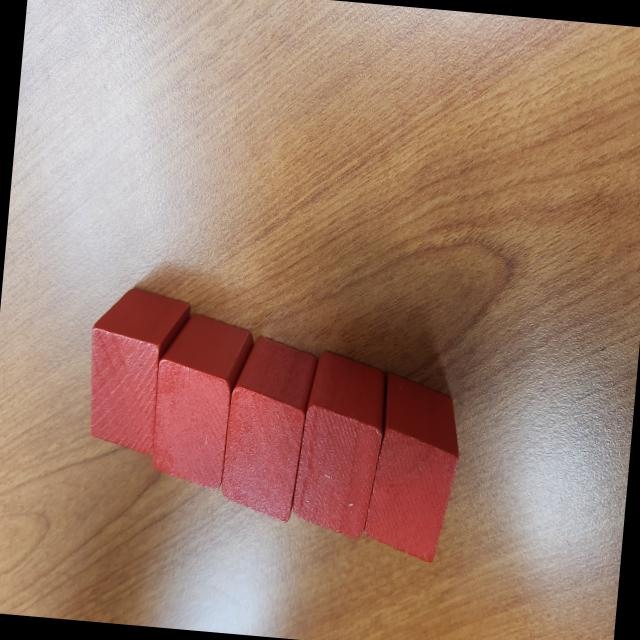red: (360, 372, 466, 568), (148, 309, 256, 495), (288, 348, 390, 542), (80, 284, 193, 458), (218, 332, 320, 524)
